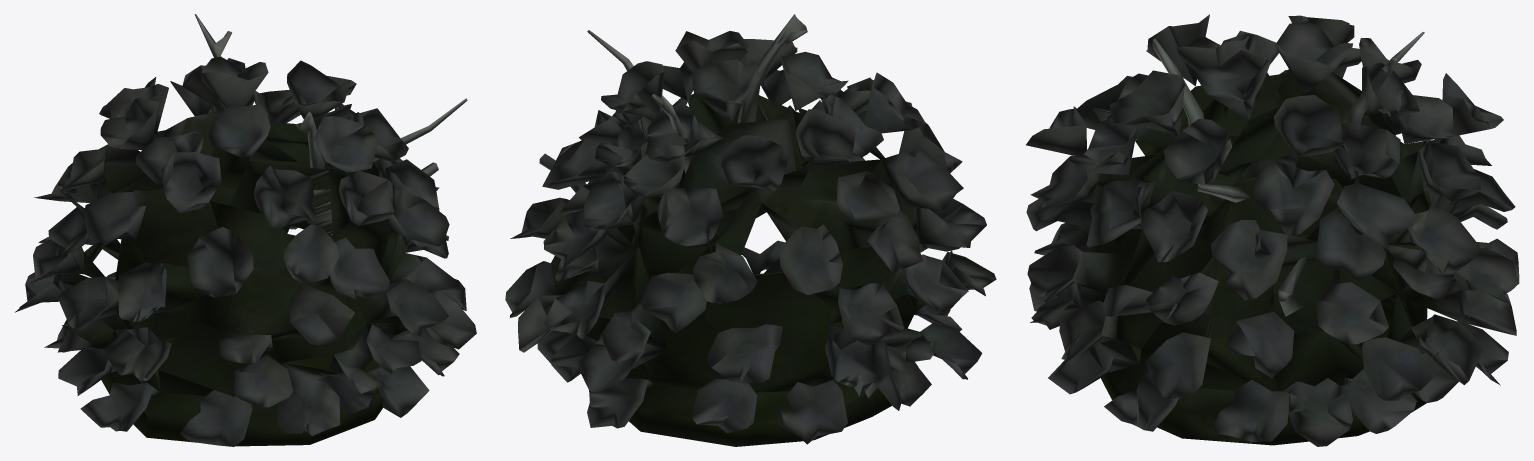
The model's file is bush.glb.
3 views of the same model, side by side, from view 1: azimuth 30°, elevation 25°; view 2: azimuth 150°, elevation 25°; view 3: azimuth 270°, elevation 25° (orthographic). The views are drawn at different scales.
Parts seen in each view (by area): view 1: model; view 2: model; view 3: model.
Part boxes in pixels (x1,y1,x2,y2): model: [15, 14, 476, 446]; model: [505, 14, 996, 446]; model: [1026, 14, 1519, 446].
Size of the model in its own units: 1.26 by 1 by 1.26.
Materials: 1 (1 with a texture image).
